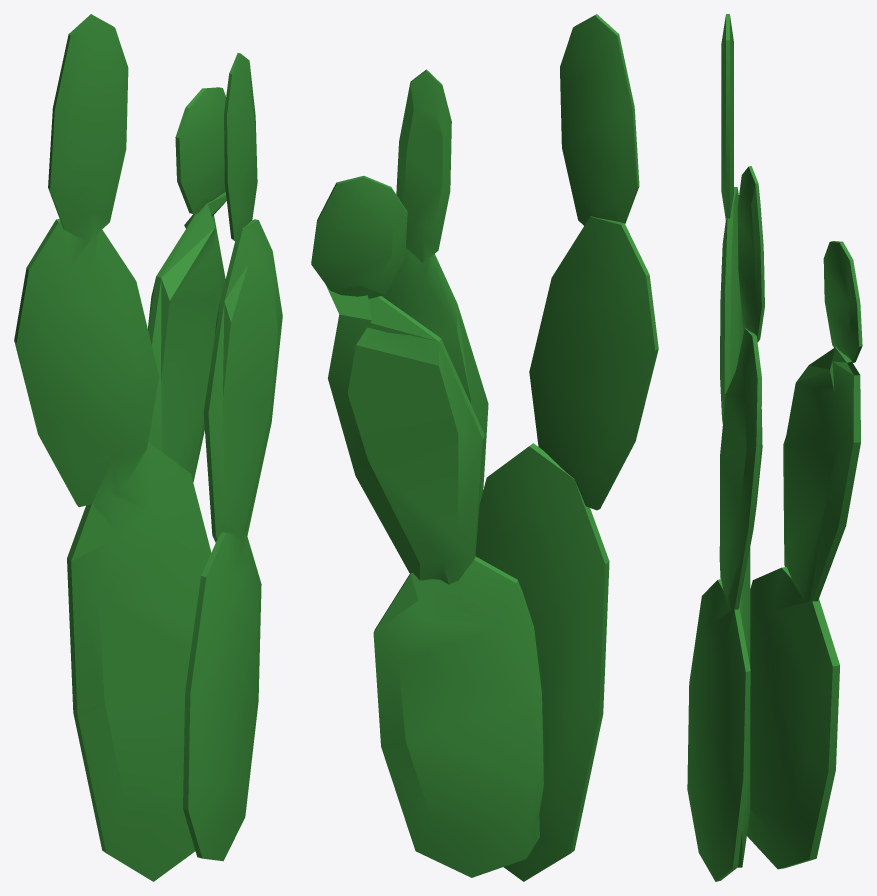
File: Cactus_12.fbx
3 renders of one model, left to right at view 1: azimuth 30°, elevation 25°; view 2: azimuth 150°, elevation 25°; view 3: azimuth 270°, elevation 25°, orthographic. The views are drawn at different scales.
Visible parts, largest first — view 1: Cactus_12; view 2: Cactus_12; view 3: Cactus_12.
Boxes of the visible parts, left/top/right/bottom form: Cactus_12: left=14, top=14, right=282, bottom=881; Cactus_12: left=311, top=14, right=658, bottom=881; Cactus_12: left=687, top=14, right=862, bottom=881.
Size of the model in its own units: 52.66 by 156 by 29.99.
